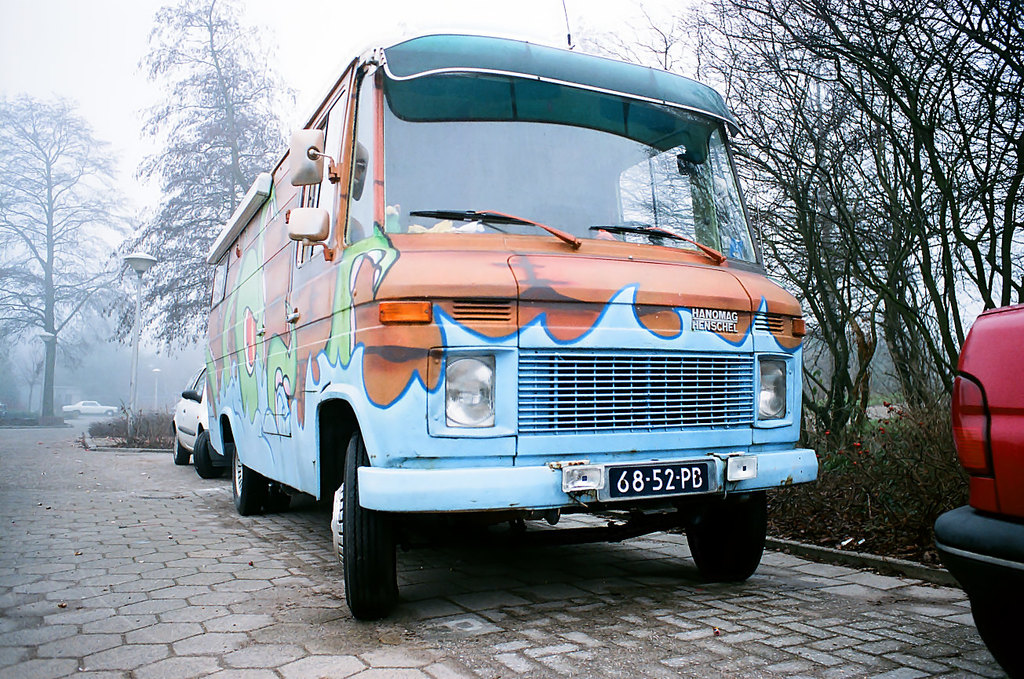truck: (171, 25, 811, 637)
